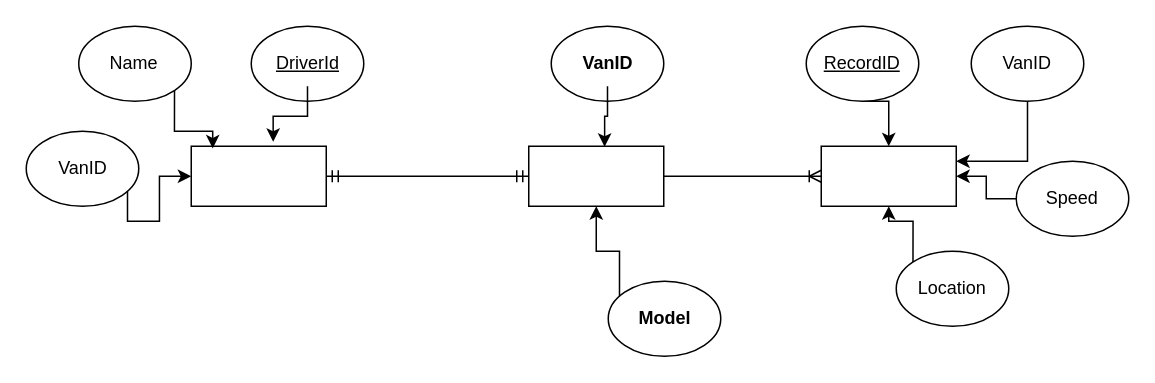
Image size: 1155x383. Some labels were removed from this diagram. The shapes that lost their labels are listed below. From the top down, each one's centre as x and y in pixels, then its label:
(x=258, y=175): Driver
(x=595, y=175): Van
(x=888, y=175): TrackingRecord
